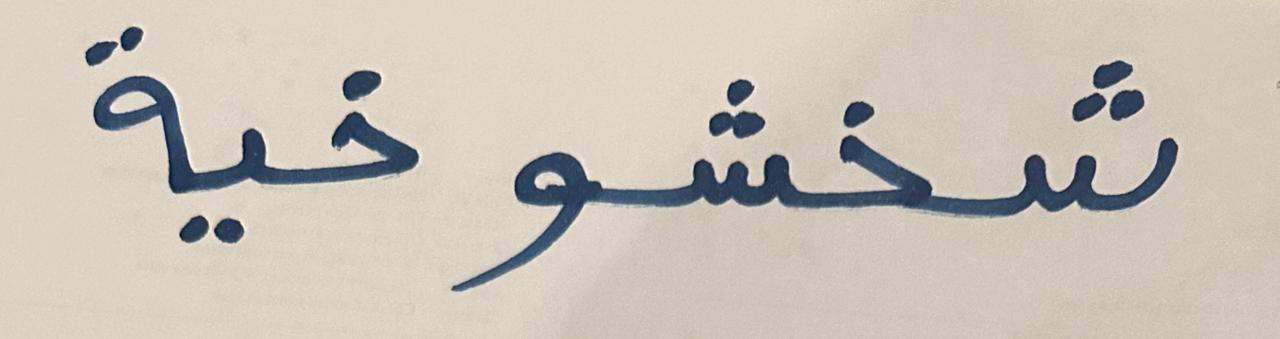lam: (812, 42, 974, 277), (291, 48, 442, 255)
tah: (977, 13, 1211, 271), (622, 35, 808, 260)
thal: (66, 19, 182, 214)
yeh: (446, 115, 618, 322)
zah: (185, 82, 287, 273)
